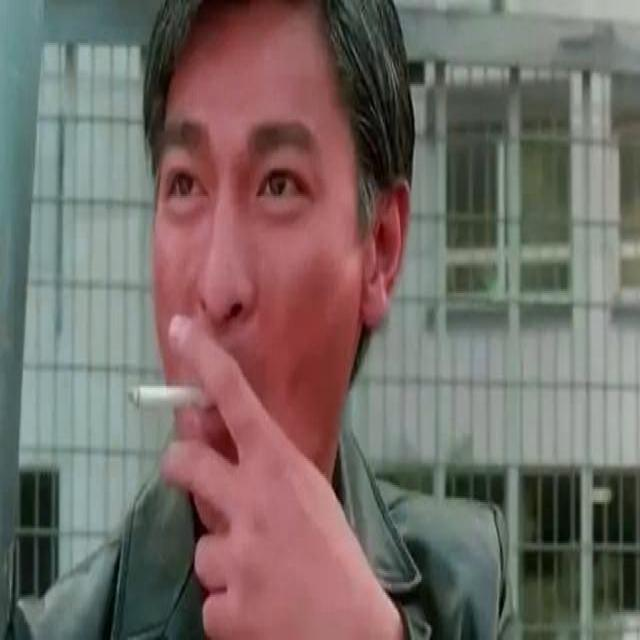smoke: (117, 325, 228, 474)
